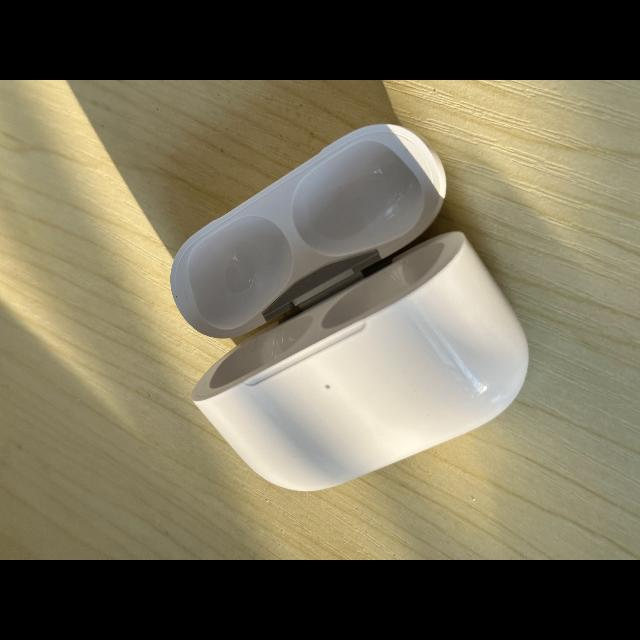AirPods Pro: (171, 124, 529, 491)
